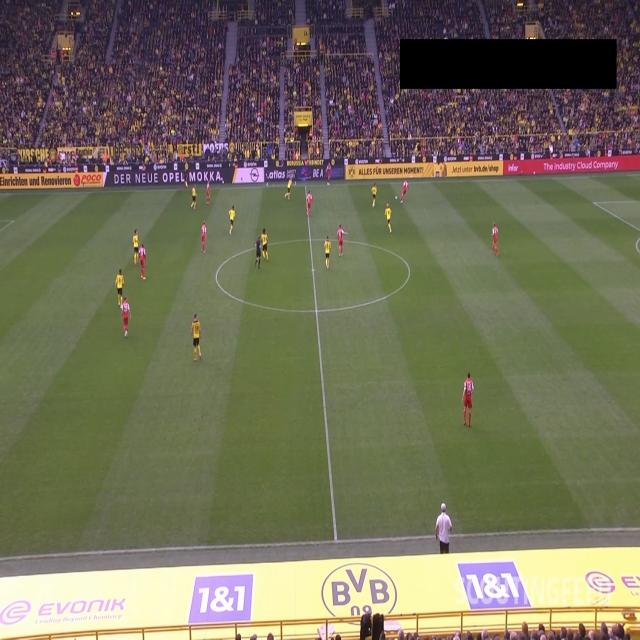ball: (394, 194, 399, 200)
f_player: (133, 228, 148, 280), (461, 373, 473, 428), (121, 293, 134, 340), (190, 312, 202, 362), (113, 266, 125, 308), (336, 225, 347, 255), (492, 223, 502, 256), (228, 207, 238, 237), (383, 206, 393, 234), (262, 229, 270, 262), (323, 237, 331, 269), (200, 222, 208, 254), (401, 179, 409, 206), (306, 189, 314, 214), (286, 177, 294, 202), (190, 188, 198, 210), (326, 164, 333, 189), (206, 179, 212, 205), (372, 185, 378, 209)
umpire: (254, 236, 263, 270), (184, 171, 189, 188)
